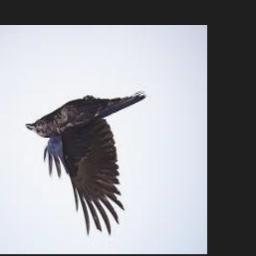Crow: (25, 93, 145, 236)
